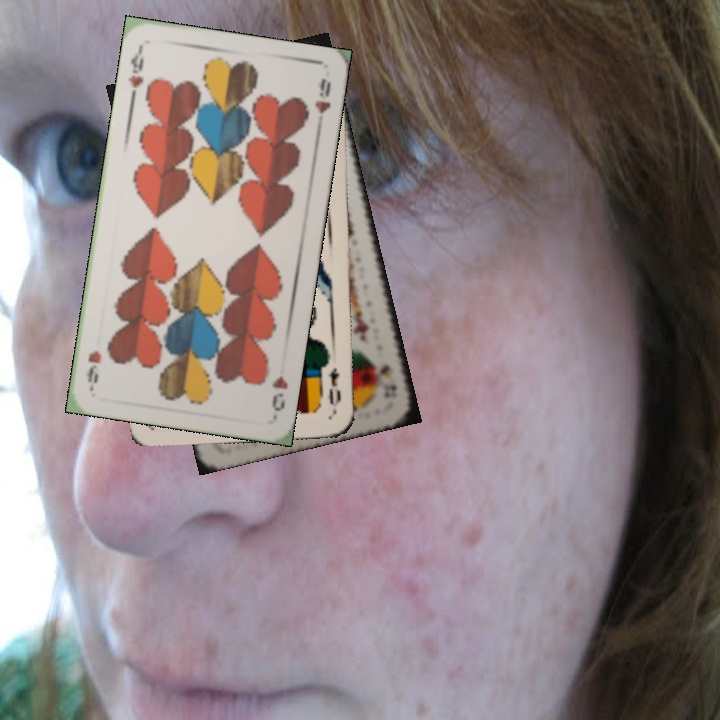EO: (324, 364, 343, 416)
H9: (124, 43, 147, 90), (267, 371, 290, 414)
SK: (375, 361, 400, 401)
